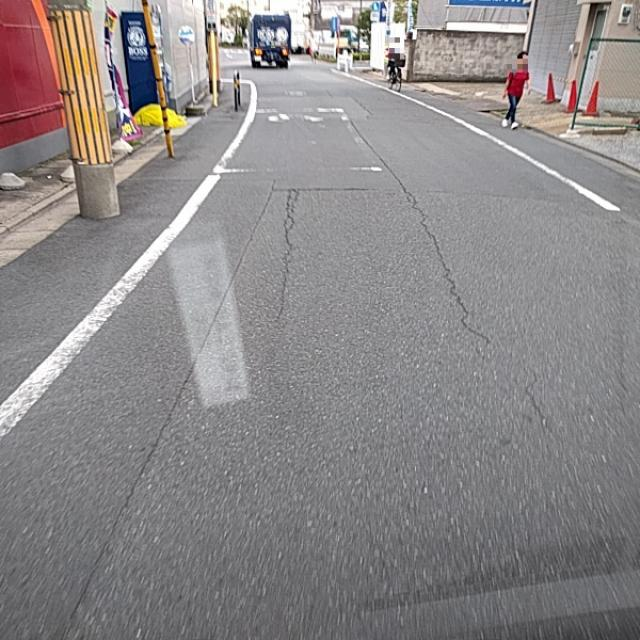pothole: (270, 206, 301, 277)
